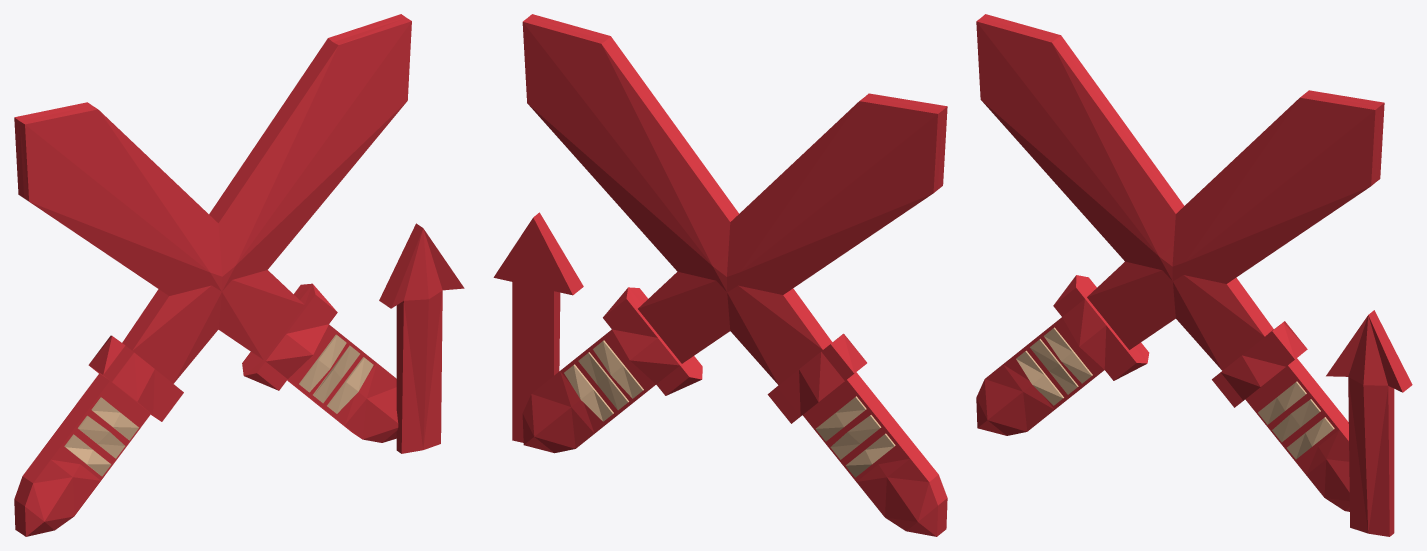
File: attack.FBX
The picture shows the model from 3 angles, left to right: view 1: azimuth 30°, elevation 25°; view 2: azimuth 150°, elevation 25°; view 3: azimuth 330°, elevation 25°; orthographic projection. The views are drawn at different scales.
Parts seen in each view (by area): view 1: attack; view 2: attack; view 3: attack.
Boxes of the visible parts, box(x1,y1,x2,y2) form: attack: box(14, 14, 464, 536); attack: box(493, 14, 947, 536); attack: box(976, 14, 1412, 536).
Size of the model in its own units: 17.03 by 15.74 by 1.95.
